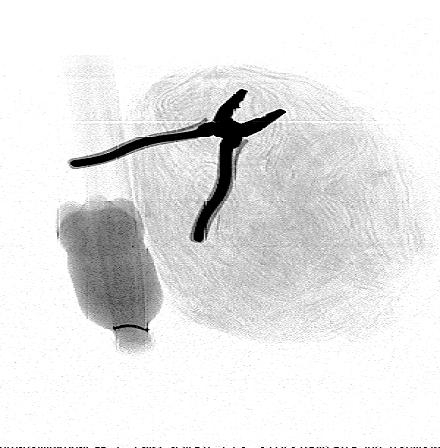Pliers: (64, 87, 288, 242)
